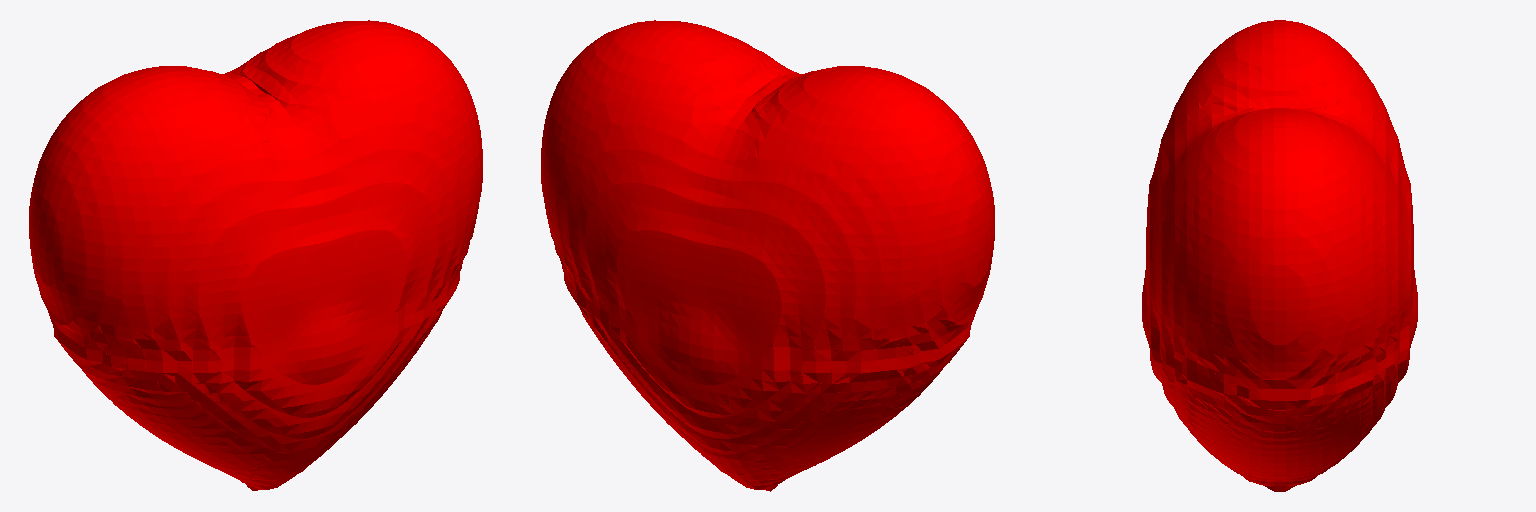
The robot description file, URDF, robot "heart":
<?xml version="1.0"?>
<robot name="heart">
  <link name="base_link">
    <inertial>
      <mass value="5.0"/>
      <origin xyz="0 0 0" rpy="0 0 0"/>
      <inertia ixx="0.1" ixy="0" ixz="0" iyy="0.1" iyz="0" izz="0.1"/>
    </inertial>
    <visual>
      <origin xyz="0 0 0" rpy="1.57 0 0"/>
      <geometry>
        <mesh filename="heart2_4.stl" scale="1 1 1"/>
      </geometry>
      <material name="red">
        <color rgba="1 0 0 1"/>
      </material>
    </visual>
    <collision>
      <origin xyz="0 0 0" rpy="1.57 0 0"/>
      <geometry>
        <mesh filename="heart2_4.stl" scale="1 1 1"/>
      </geometry>
    </collision>
  </link>
</robot>

--- What the picture shows (computed from the rendered views, not written in the file) ---
The picture shows the robot from 3 angles, left to right: view 1: azimuth 30°, elevation 25°; view 2: azimuth 150°, elevation 25°; view 3: azimuth 270°, elevation 25°; orthographic projection.
Model heart with 1 links and 0 joints (none), rooted at base_link, posed every joint at zero.
Visible links, largest first — view 1: base_link; view 2: base_link; view 3: base_link.
Link boxes in pixels (left/top/right/bottom): base_link: left=29, top=20, right=482, bottom=490; base_link: left=541, top=20, right=994, bottom=491; base_link: left=1142, top=20, right=1417, bottom=491.
Size in the robot's own frame: 0.4535 by 0.2683 by 0.4403 metres.
1 mesh visuals loaded from 1 distinct referenced files (1 binary STL).